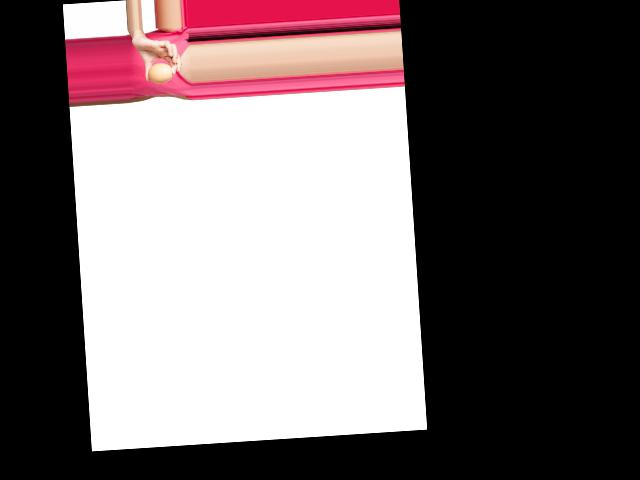egg: (147, 62, 173, 83)
